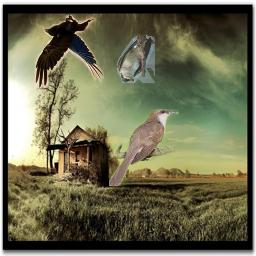Crow: (34, 15, 104, 88)
Cuckoo: (109, 109, 179, 186)
Swallow: (117, 34, 155, 83)
